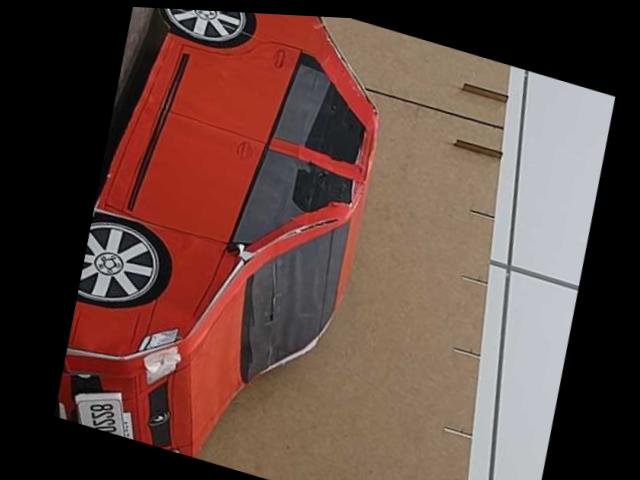car: (29, 2, 424, 480)
id: (71, 384, 144, 441)
